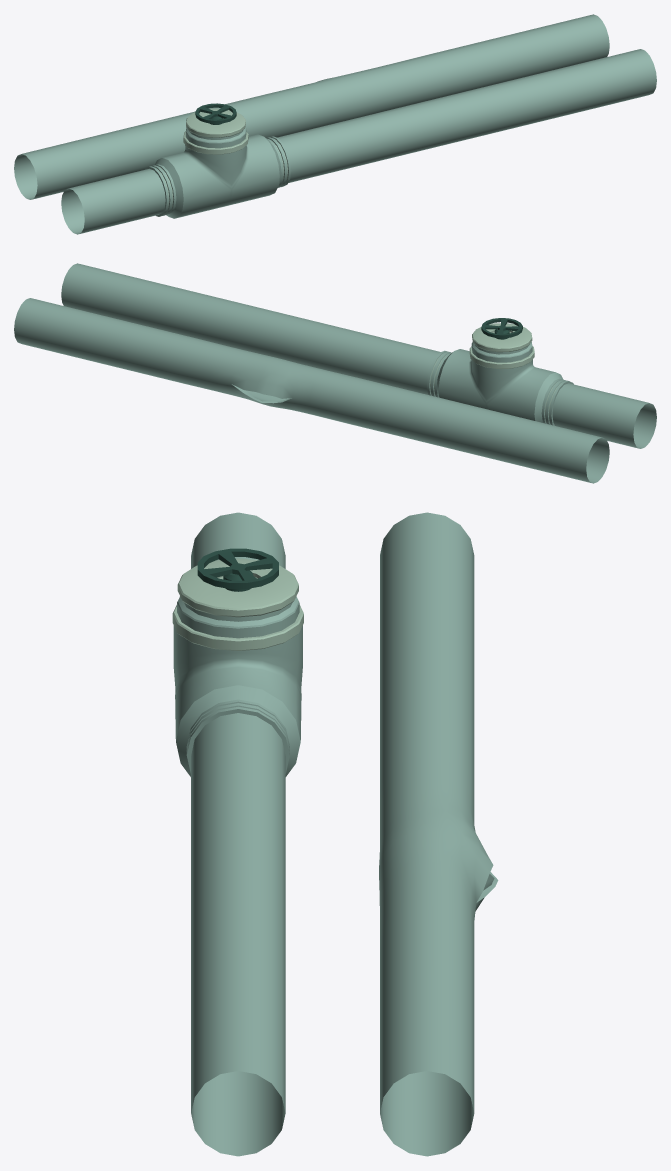
The model's file is PipeComplexLarge_A3_07.fbx.
3 renders of one model, top to bottom at view 1: azimuth 30°, elevation 25°; view 2: azimuth 150°, elevation 25°; view 3: azimuth 270°, elevation 25°, orthographic. The views are drawn at different scales.
Visible parts, largest first — view 1: PipeComplexLarge_A3_07.001; view 2: PipeComplexLarge_A3_07.001; view 3: PipeComplexLarge_A3_07.001.
Boxes of the visible parts, <box> form: PipeComplexLarge_A3_07.001: <box>14,14,656,234</box>; PipeComplexLarge_A3_07.001: <box>14,263,656,483</box>; PipeComplexLarge_A3_07.001: <box>172,512,498,1156</box>.
Bounding box in the file's own units: 2.8 × 0.4338 × 0.6903.
